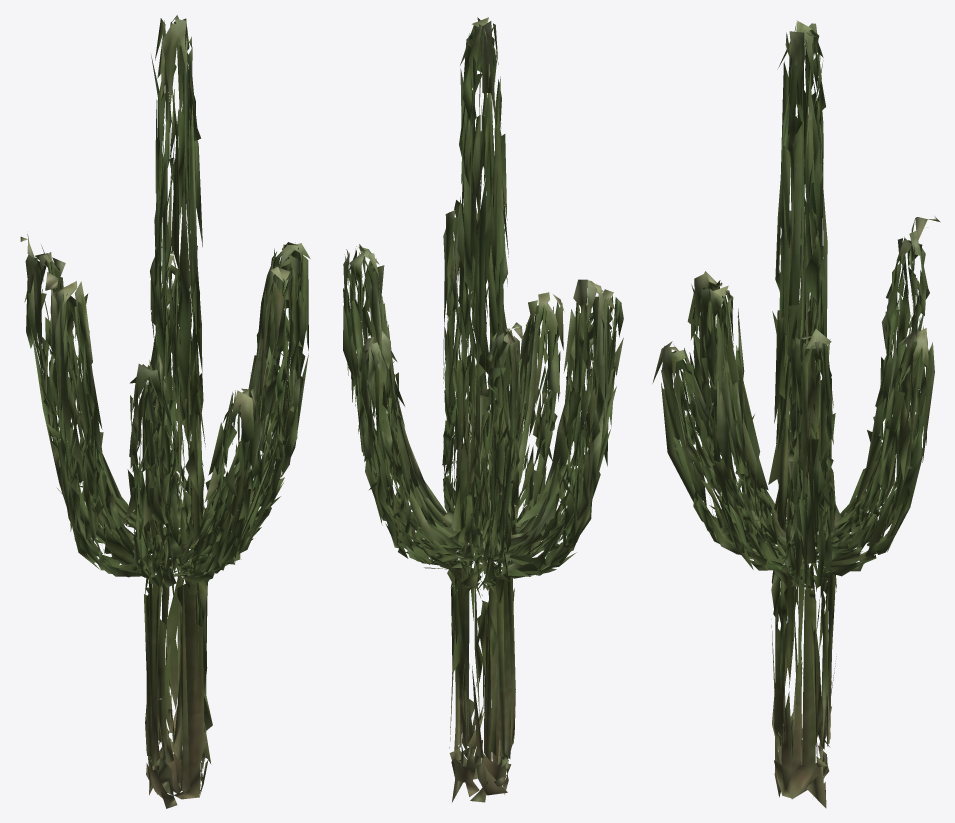
File: cacto_colunar_broto.glb
3 views of the same model, side by side, from view 1: azimuth 30°, elevation 25°; view 2: azimuth 150°, elevation 25°; view 3: azimuth 270°, elevation 25° (orthographic).
Visible parts, largest first — view 1: geometry_0; view 2: geometry_0; view 3: geometry_0.
Part boxes in pixels (bbox=[...]): geometry_0: bbox=[20, 15, 310, 808]; geometry_0: bbox=[343, 17, 623, 802]; geometry_0: bbox=[652, 20, 940, 808].
Bounding box in the file's own units: 0.346 × 0.9958 × 0.3339.
1 material, 1 textured.
